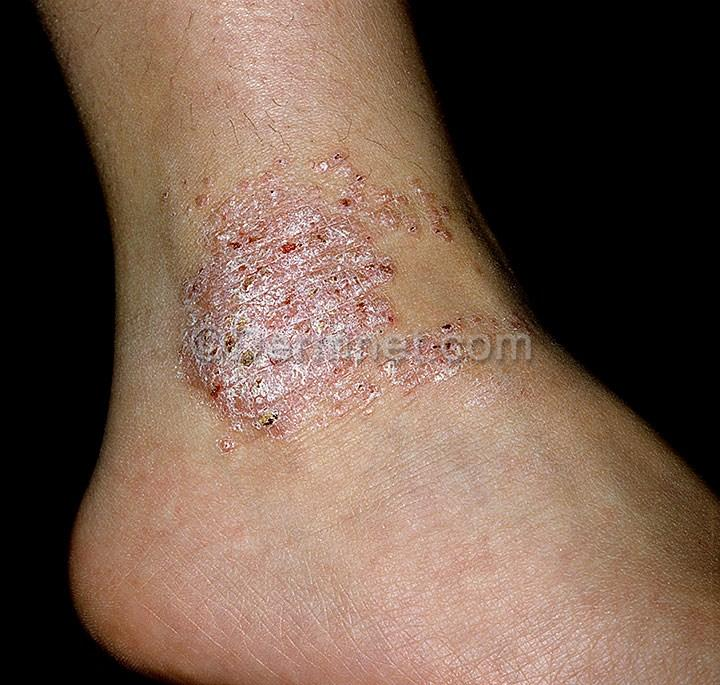Eczema: (145, 141, 410, 330), (174, 364, 427, 492), (423, 367, 523, 461), (402, 184, 496, 263)
